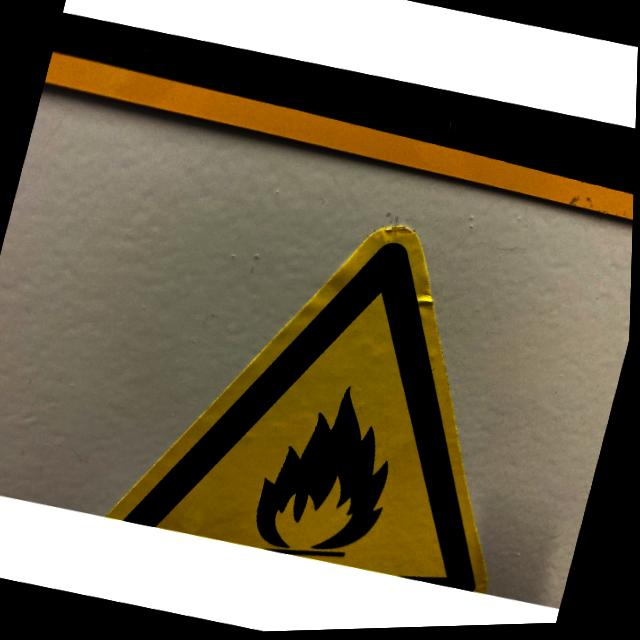fire hazard: (250, 373, 414, 574)
